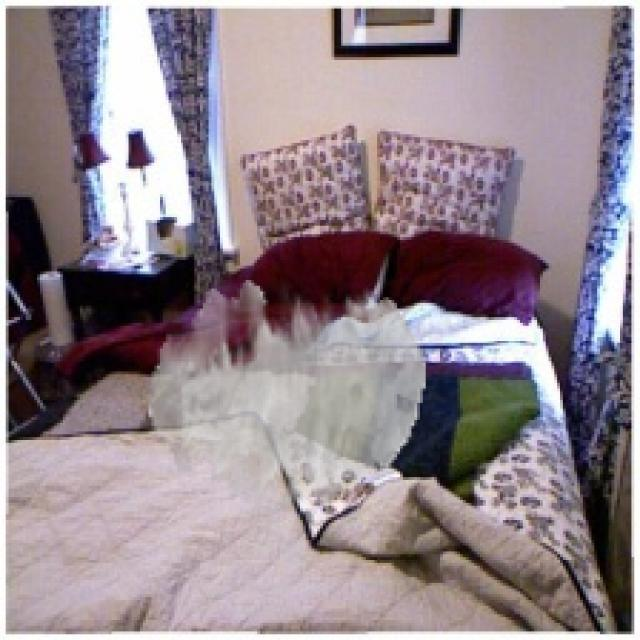Smoke: (148, 279, 426, 512)
